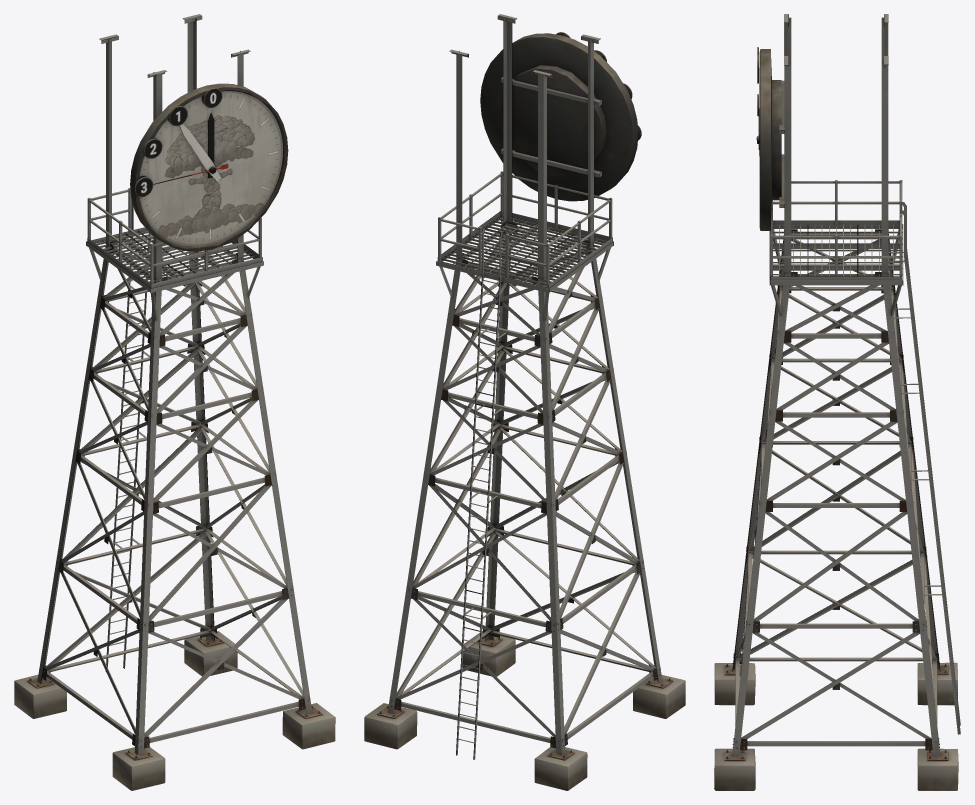
File: clock_tower-low.glb
3 renders of one model, left to right at view 1: azimuth 30°, elevation 25°; view 2: azimuth 150°, elevation 25°; view 3: azimuth 270°, elevation 25°, orthographic. The views are drawn at different scales.
Visible parts, largest first — view 1: clock_tower; view 2: clock_tower; view 3: clock_tower.
Part boxes in pixels (bbox=[...]): clock_tower: bbox=[14, 14, 335, 790]; clock_tower: bbox=[364, 14, 685, 790]; clock_tower: bbox=[714, 14, 960, 790].
Size of the model in its own units: 5.41 by 17.11 by 5.46.
Materials: 3 (3 with a texture image).
